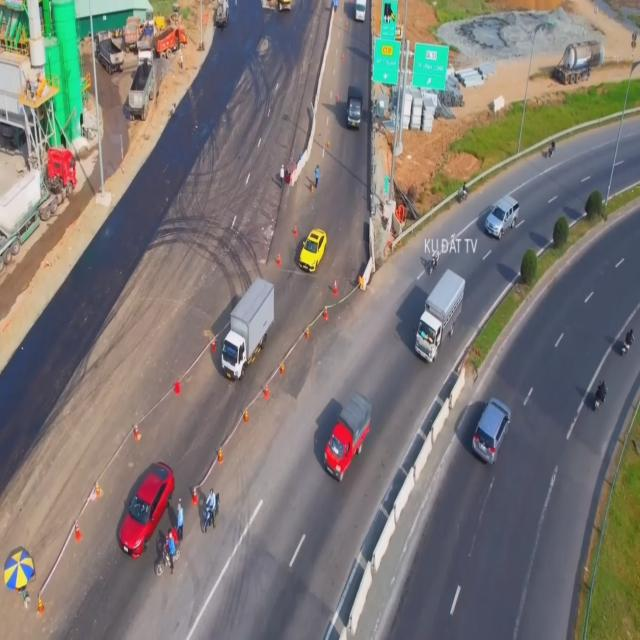car: (117, 458, 175, 562), (473, 395, 510, 464), (484, 193, 521, 240), (299, 227, 327, 273)
motorbike: (198, 488, 220, 535), (156, 536, 181, 575), (591, 377, 607, 418), (619, 328, 634, 358), (428, 248, 441, 275), (460, 182, 469, 204)
truck: (220, 280, 276, 381), (423, 254, 472, 355), (322, 390, 372, 481), (346, 84, 365, 132), (354, 0, 366, 21)
